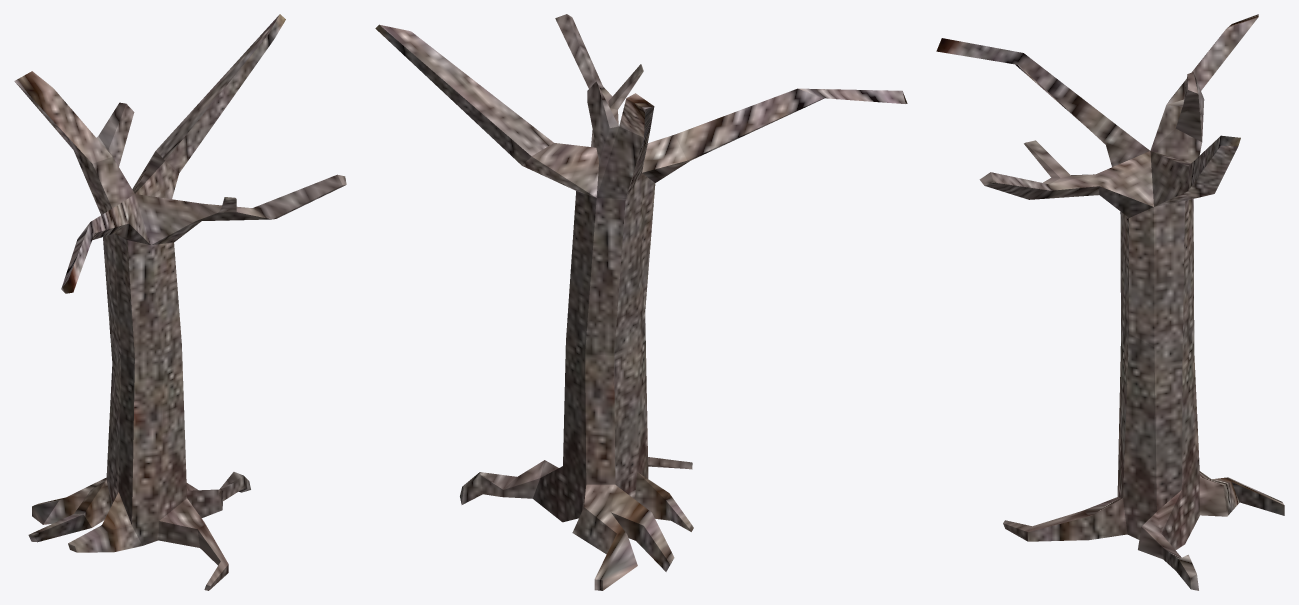
File: tree.gltf
3 views of the same model, side by side, from view 1: azimuth 30°, elevation 25°; view 2: azimuth 150°, elevation 25°; view 3: azimuth 270°, elevation 25° (orthographic). The views are drawn at different scales.
Visible parts, largest first — view 1: Tree; view 2: Tree; view 3: Tree.
Part boxes in pixels (box(x1,y1,x2,y2)): Tree: box(14, 14, 346, 590); Tree: box(375, 14, 907, 590); Tree: box(936, 14, 1284, 590).
Size of the model in its own units: 2.94 by 3.58 by 2.29.
Materials: 1 (1 with a texture image).
